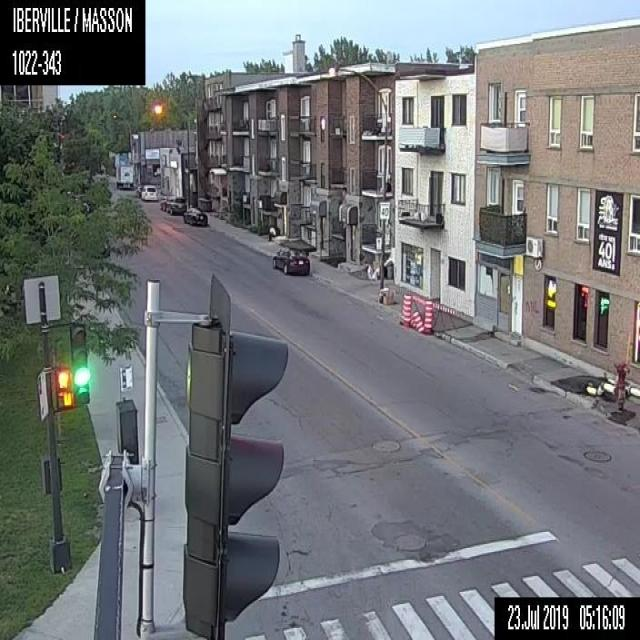construction: (548, 362, 629, 398), (422, 297, 433, 334), (400, 290, 410, 327), (412, 306, 423, 332)
vehicle: (271, 245, 310, 276), (182, 206, 208, 226), (115, 164, 134, 191), (165, 196, 187, 215), (140, 183, 159, 200), (158, 196, 170, 211), (134, 185, 142, 198)
